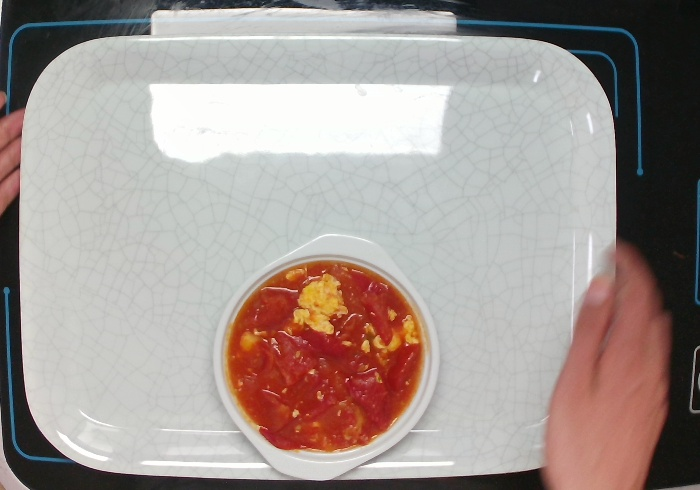JYsf-Shuang_Er_Pan: (209, 229, 446, 484)
